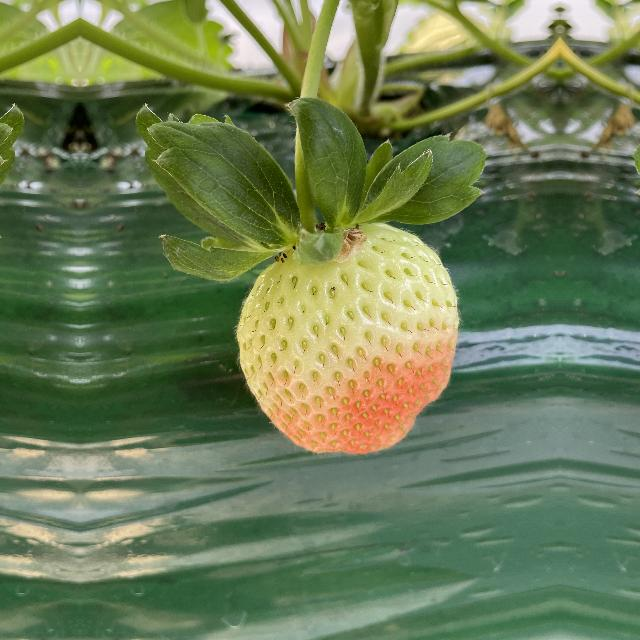Health_50: (234, 211, 468, 461)
